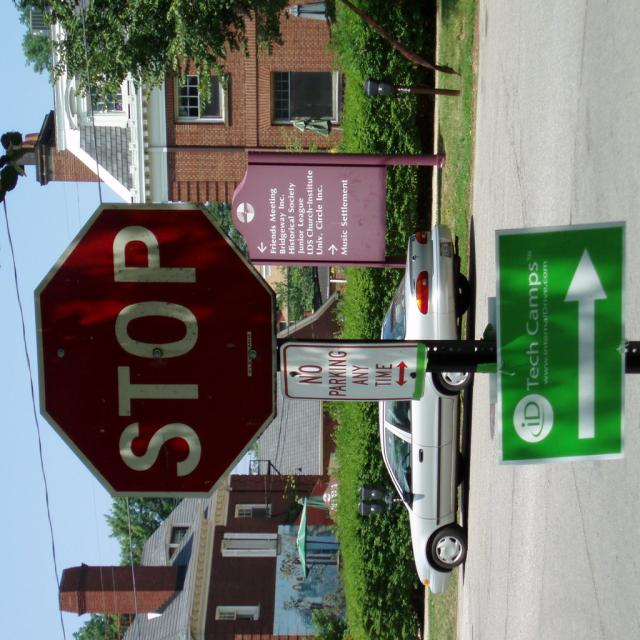Stop-sign: (34, 201, 279, 499)
